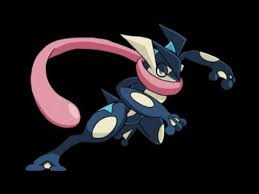greninja: (21, 21, 237, 177)
